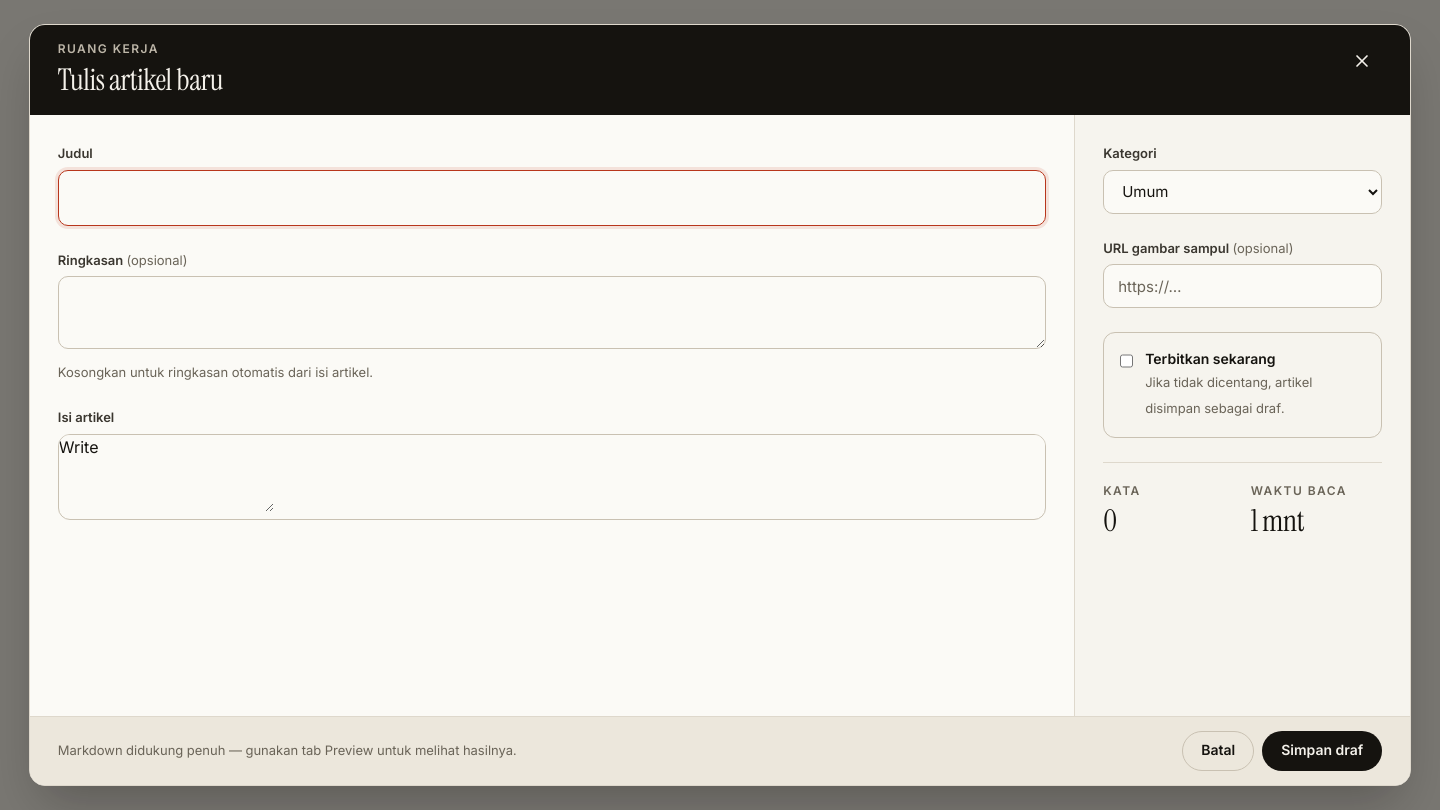
Test: PostModal › validates required title and content
Expected: the element with test id "markdown-editor" is shown, [58,434,1046,520]
Expected: the dropdown labelled "Kategori" shows "Umum", [1103,170,1382,214]
Click the button "Simpan draf".
click(1322, 751)  # box [1262,731,1382,771]
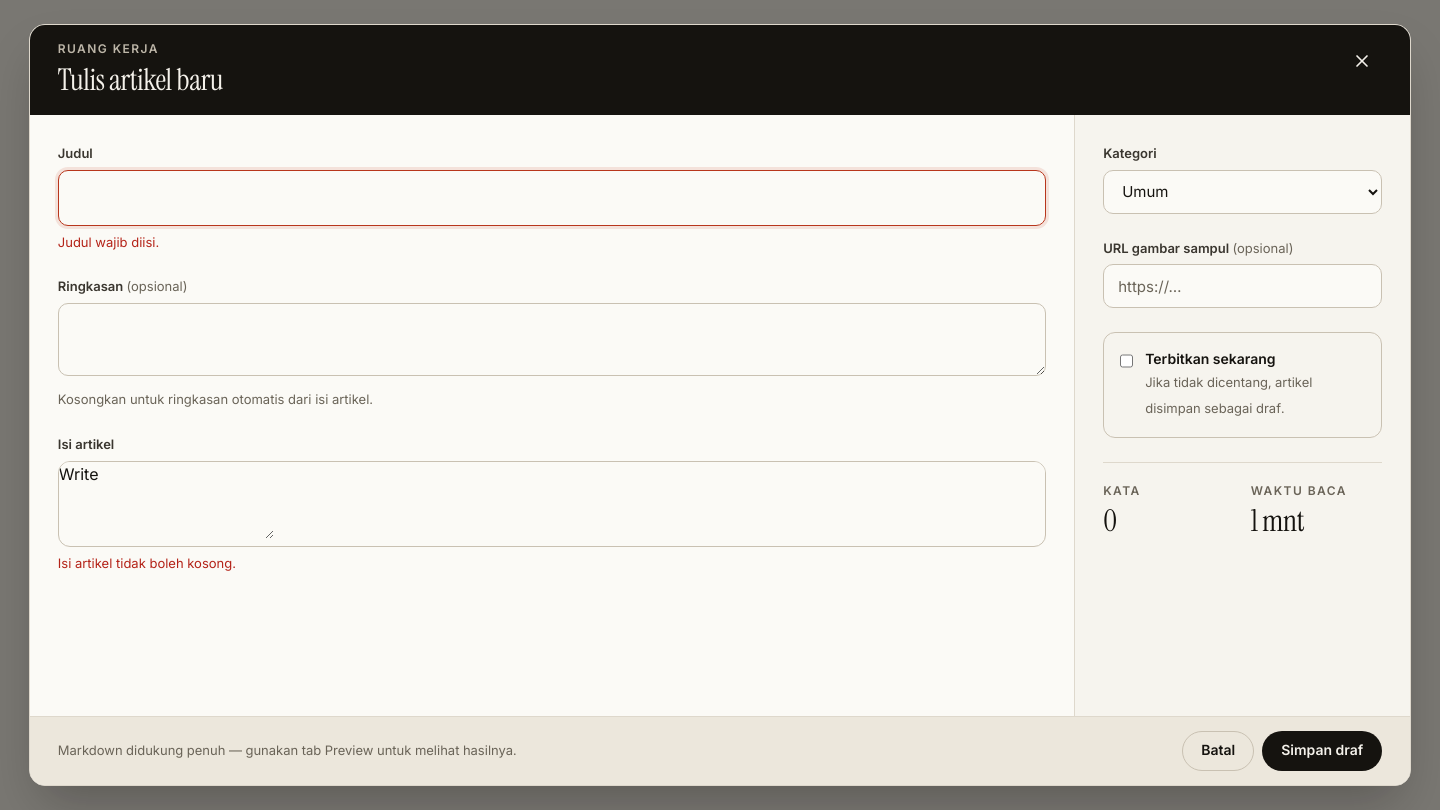
Result: the text "Judul wajib diisi." is shown at [58,234,159,250]
Result: the text "Isi artikel tidak boleh kosong." is shown at [58,555,236,571]
